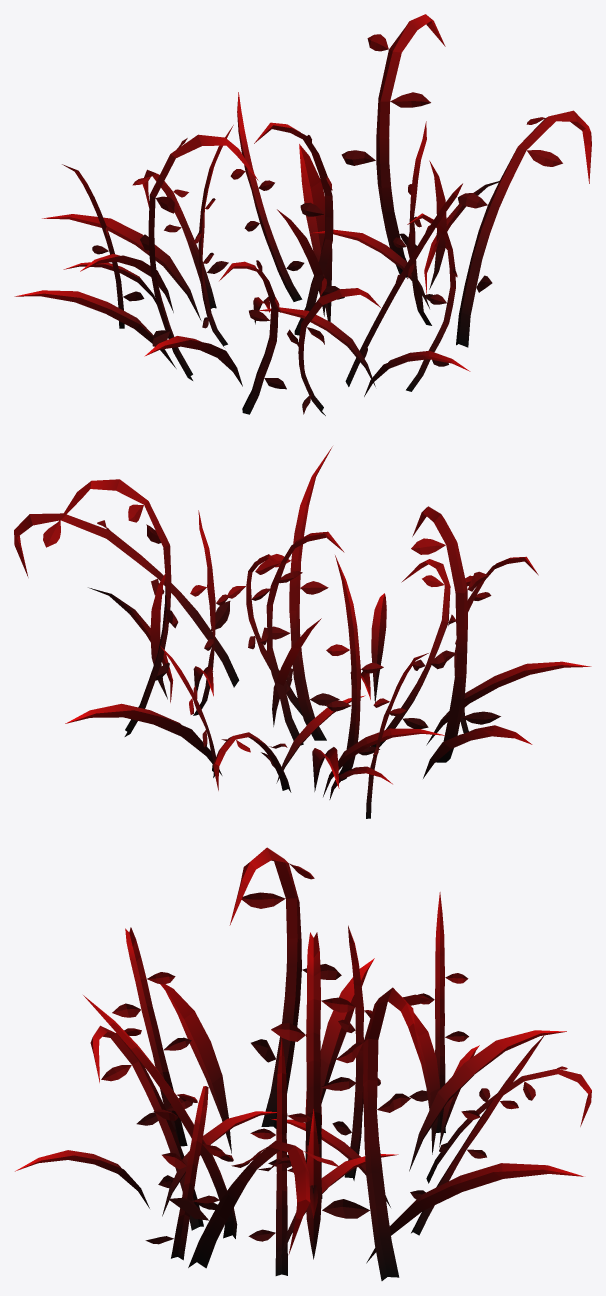
Rendered from grass02-1 1.fbx.
3 views of the same model, one above another, from view 1: azimuth 30°, elevation 25°; view 2: azimuth 150°, elevation 25°; view 3: azimuth 270°, elevation 25° (orthographic). The views are drawn at different scales.
Visible parts, largest first — view 1: grass02-1, Plane.001; view 2: grass02-1, Plane.001; view 3: grass02-1, Plane.001.
Part boxes in pixels (<box>): grass02-1: <box>62,14,591,415</box>; Plane.001: <box>14,144,499,396</box>; grass02-1: <box>14,446,538,818</box>; Plane.001: <box>65,574,591,799</box>; grass02-1: <box>83,847,591,1280</box>; Plane.001: <box>15,958,583,1263</box>.
Bounding box in the file's own units: 478 × 244 × 376.
